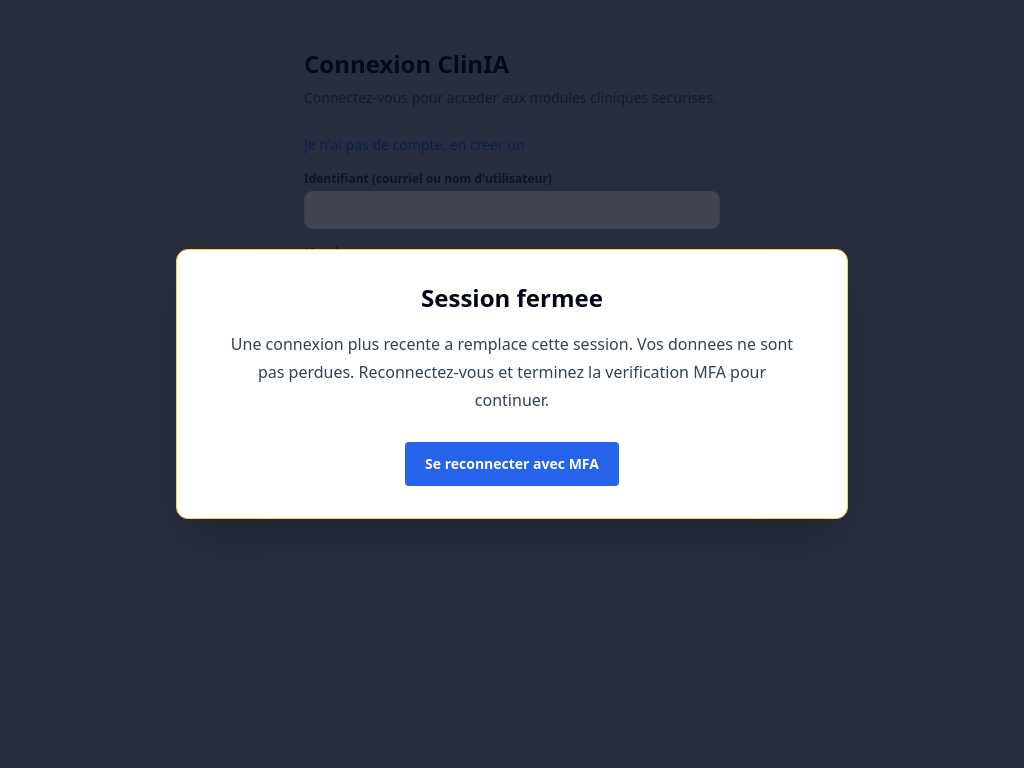
it: LoginPage MFA recovery codes › shows a full-screen explanation when a newer sign-in replaced this session
Expected: the dialog shows "Une connexion plus recente a remplace cette session.", [231,333,793,411]
Click the button "Se reconnecter avec MFA". click: (512, 464)
box: [405,442,619,486]
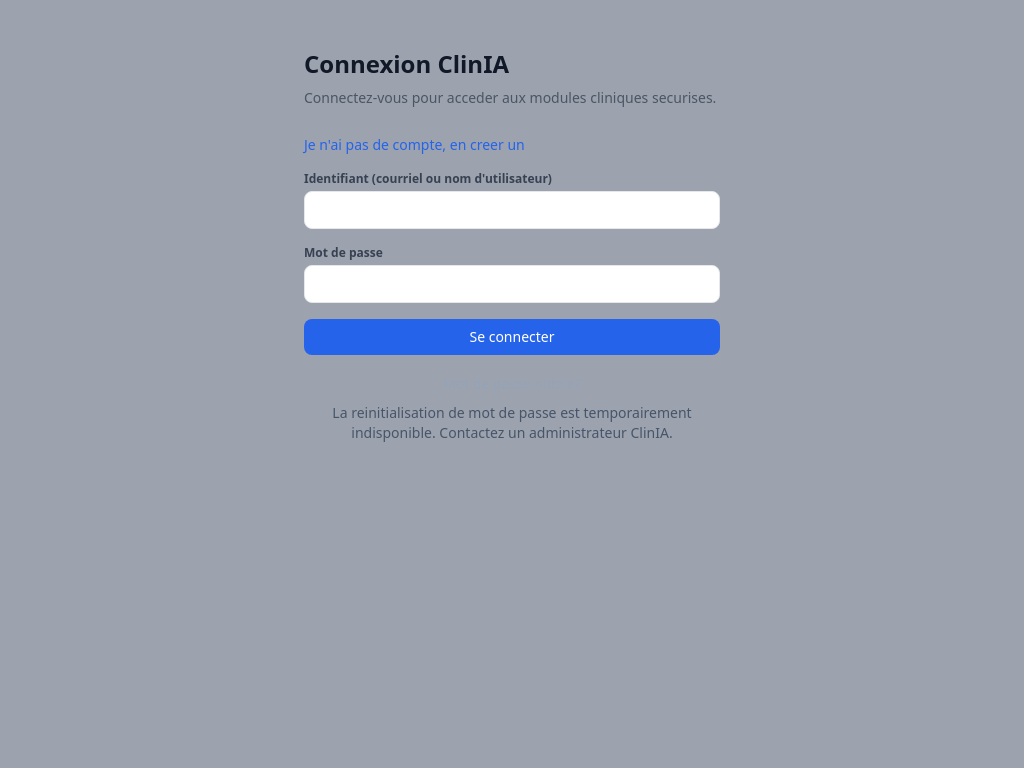
Expected: the button "Se connecter" is shown, [304,319,720,355]
Result: the dialog is gone
